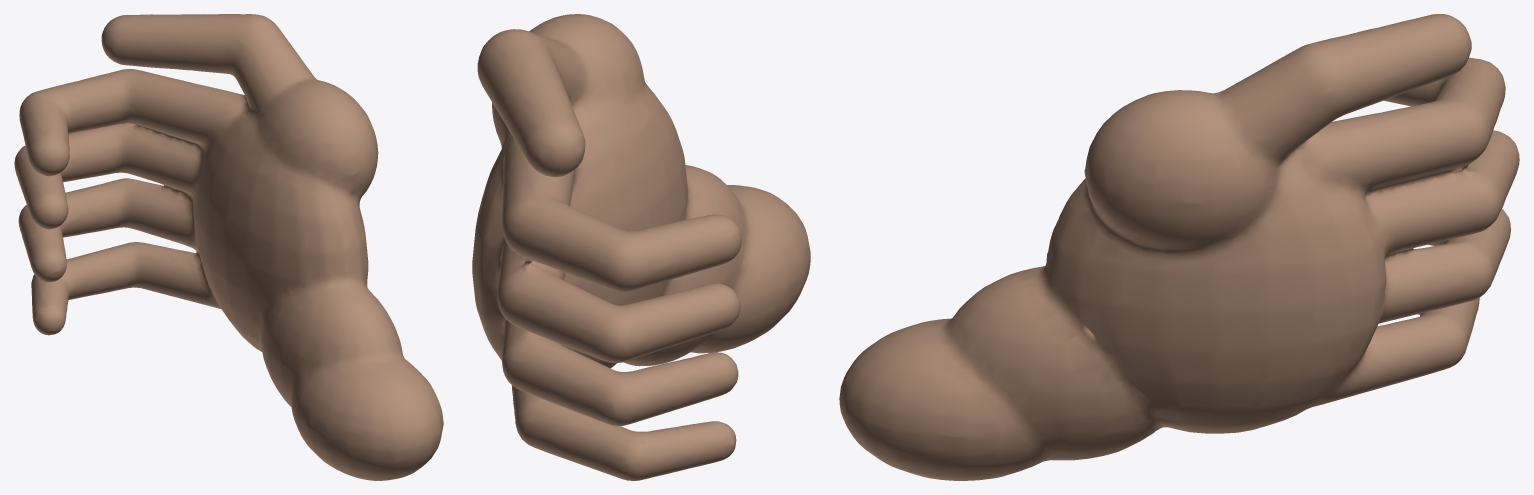
The model's file is adult_hand.glb.
3 renders of one model, left to right at view 1: azimuth 30°, elevation 25°; view 2: azimuth 150°, elevation 25°; view 3: azimuth 270°, elevation 25°, orthographic. The views are drawn at different scales.
Parts seen in each view (by area): view 1: Adult_gripping_hand; view 2: Adult_gripping_hand; view 3: Adult_gripping_hand.
Part boxes in pixels (left/top/right/bottom): Adult_gripping_hand: left=14, top=14, right=443, bottom=480; Adult_gripping_hand: left=472, top=14, right=810, bottom=480; Adult_gripping_hand: left=839, top=14, right=1519, bottom=480.
Bounding box in the file's own units: 0.1049 × 0.1325 × 0.1852.
